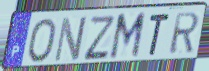M: (107, 11, 148, 63)
N: (52, 14, 89, 64)
O: (26, 17, 58, 65)
R: (167, 11, 201, 56)
T: (148, 12, 172, 57)
Z: (82, 15, 115, 62)
